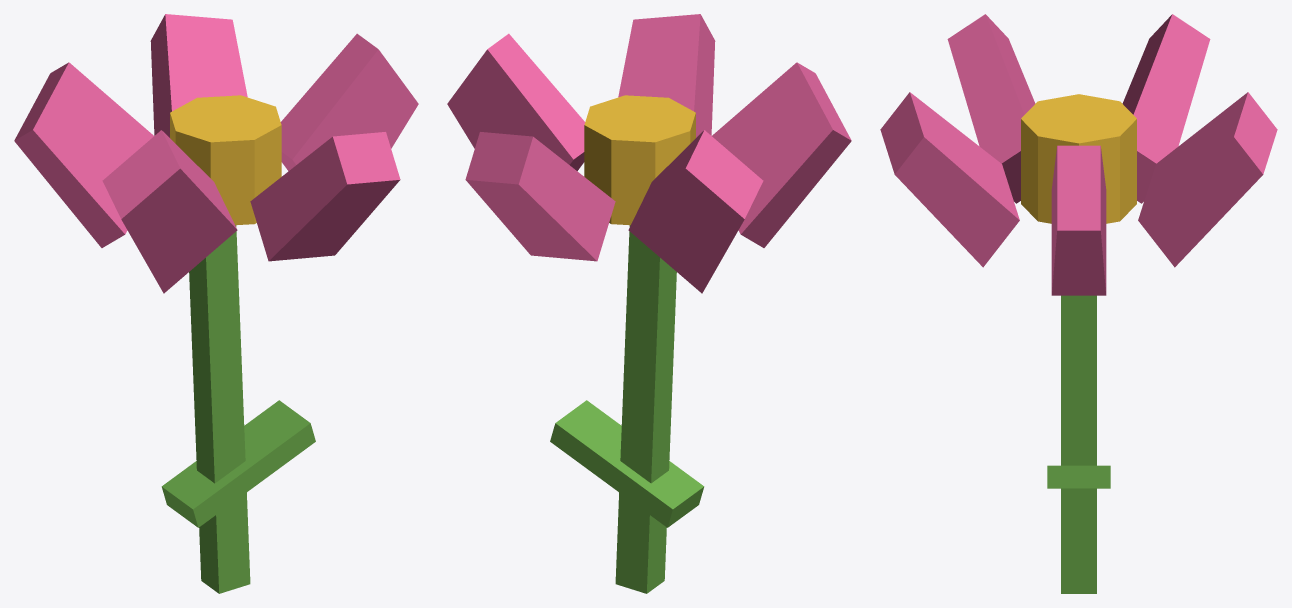
File: env_r10_big_flower.glb
The picture shows the model from 3 angles, left to right: view 1: azimuth 30°, elevation 25°; view 2: azimuth 150°, elevation 25°; view 3: azimuth 270°, elevation 25°; orthographic projection.
Parts seen in each view (by area): view 1: env_r10_big_flower; view 2: env_r10_big_flower; view 3: env_r10_big_flower.
Boxes of the visible parts, box(x1,y1,x2,y2) form: env_r10_big_flower: box(14, 14, 418, 593); env_r10_big_flower: box(447, 14, 851, 593); env_r10_big_flower: box(880, 14, 1277, 593).
Bounding box in the file's own units: 1.8 × 2.6 × 1.8.
1 material, 1 textured.
